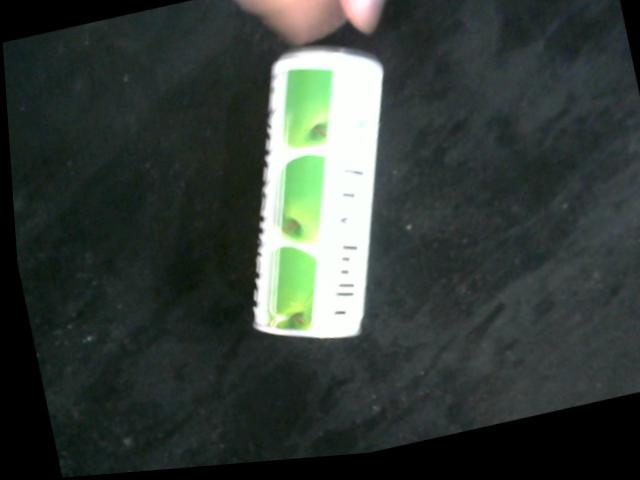can: (245, 51, 385, 345)
